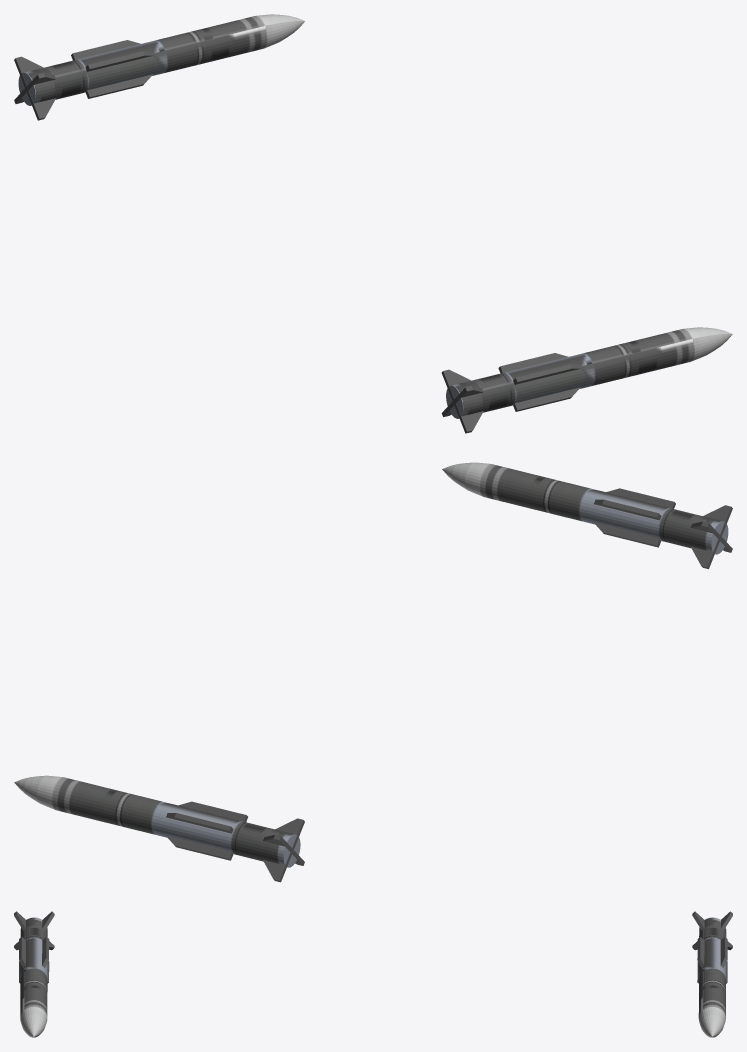
3 renders of one model, top to bottom at view 1: azimuth 30°, elevation 25°; view 2: azimuth 150°, elevation 25°; view 3: azimuth 270°, elevation 25°, orthographic. The views are drawn at different scales.
Parts seen in each view (by area): view 1: 円柱.005, 円柱.009; view 2: 円柱.005, 円柱.009; view 3: 円柱.005, 円柱.009.
Boxes of the visible parts, box(x1,y1,x2,y2) form: 円柱.005: box(441, 327, 732, 433); 円柱.009: box(14, 14, 304, 120); 円柱.005: box(442, 462, 732, 569); 円柱.009: box(14, 775, 304, 882); 円柱.005: box(14, 911, 54, 1037); 円柱.009: box(692, 911, 732, 1037).
Size of the model in its own units: 5.01 by 0.7959 by 14.12.
Materials: 3 (1 with a texture image).
